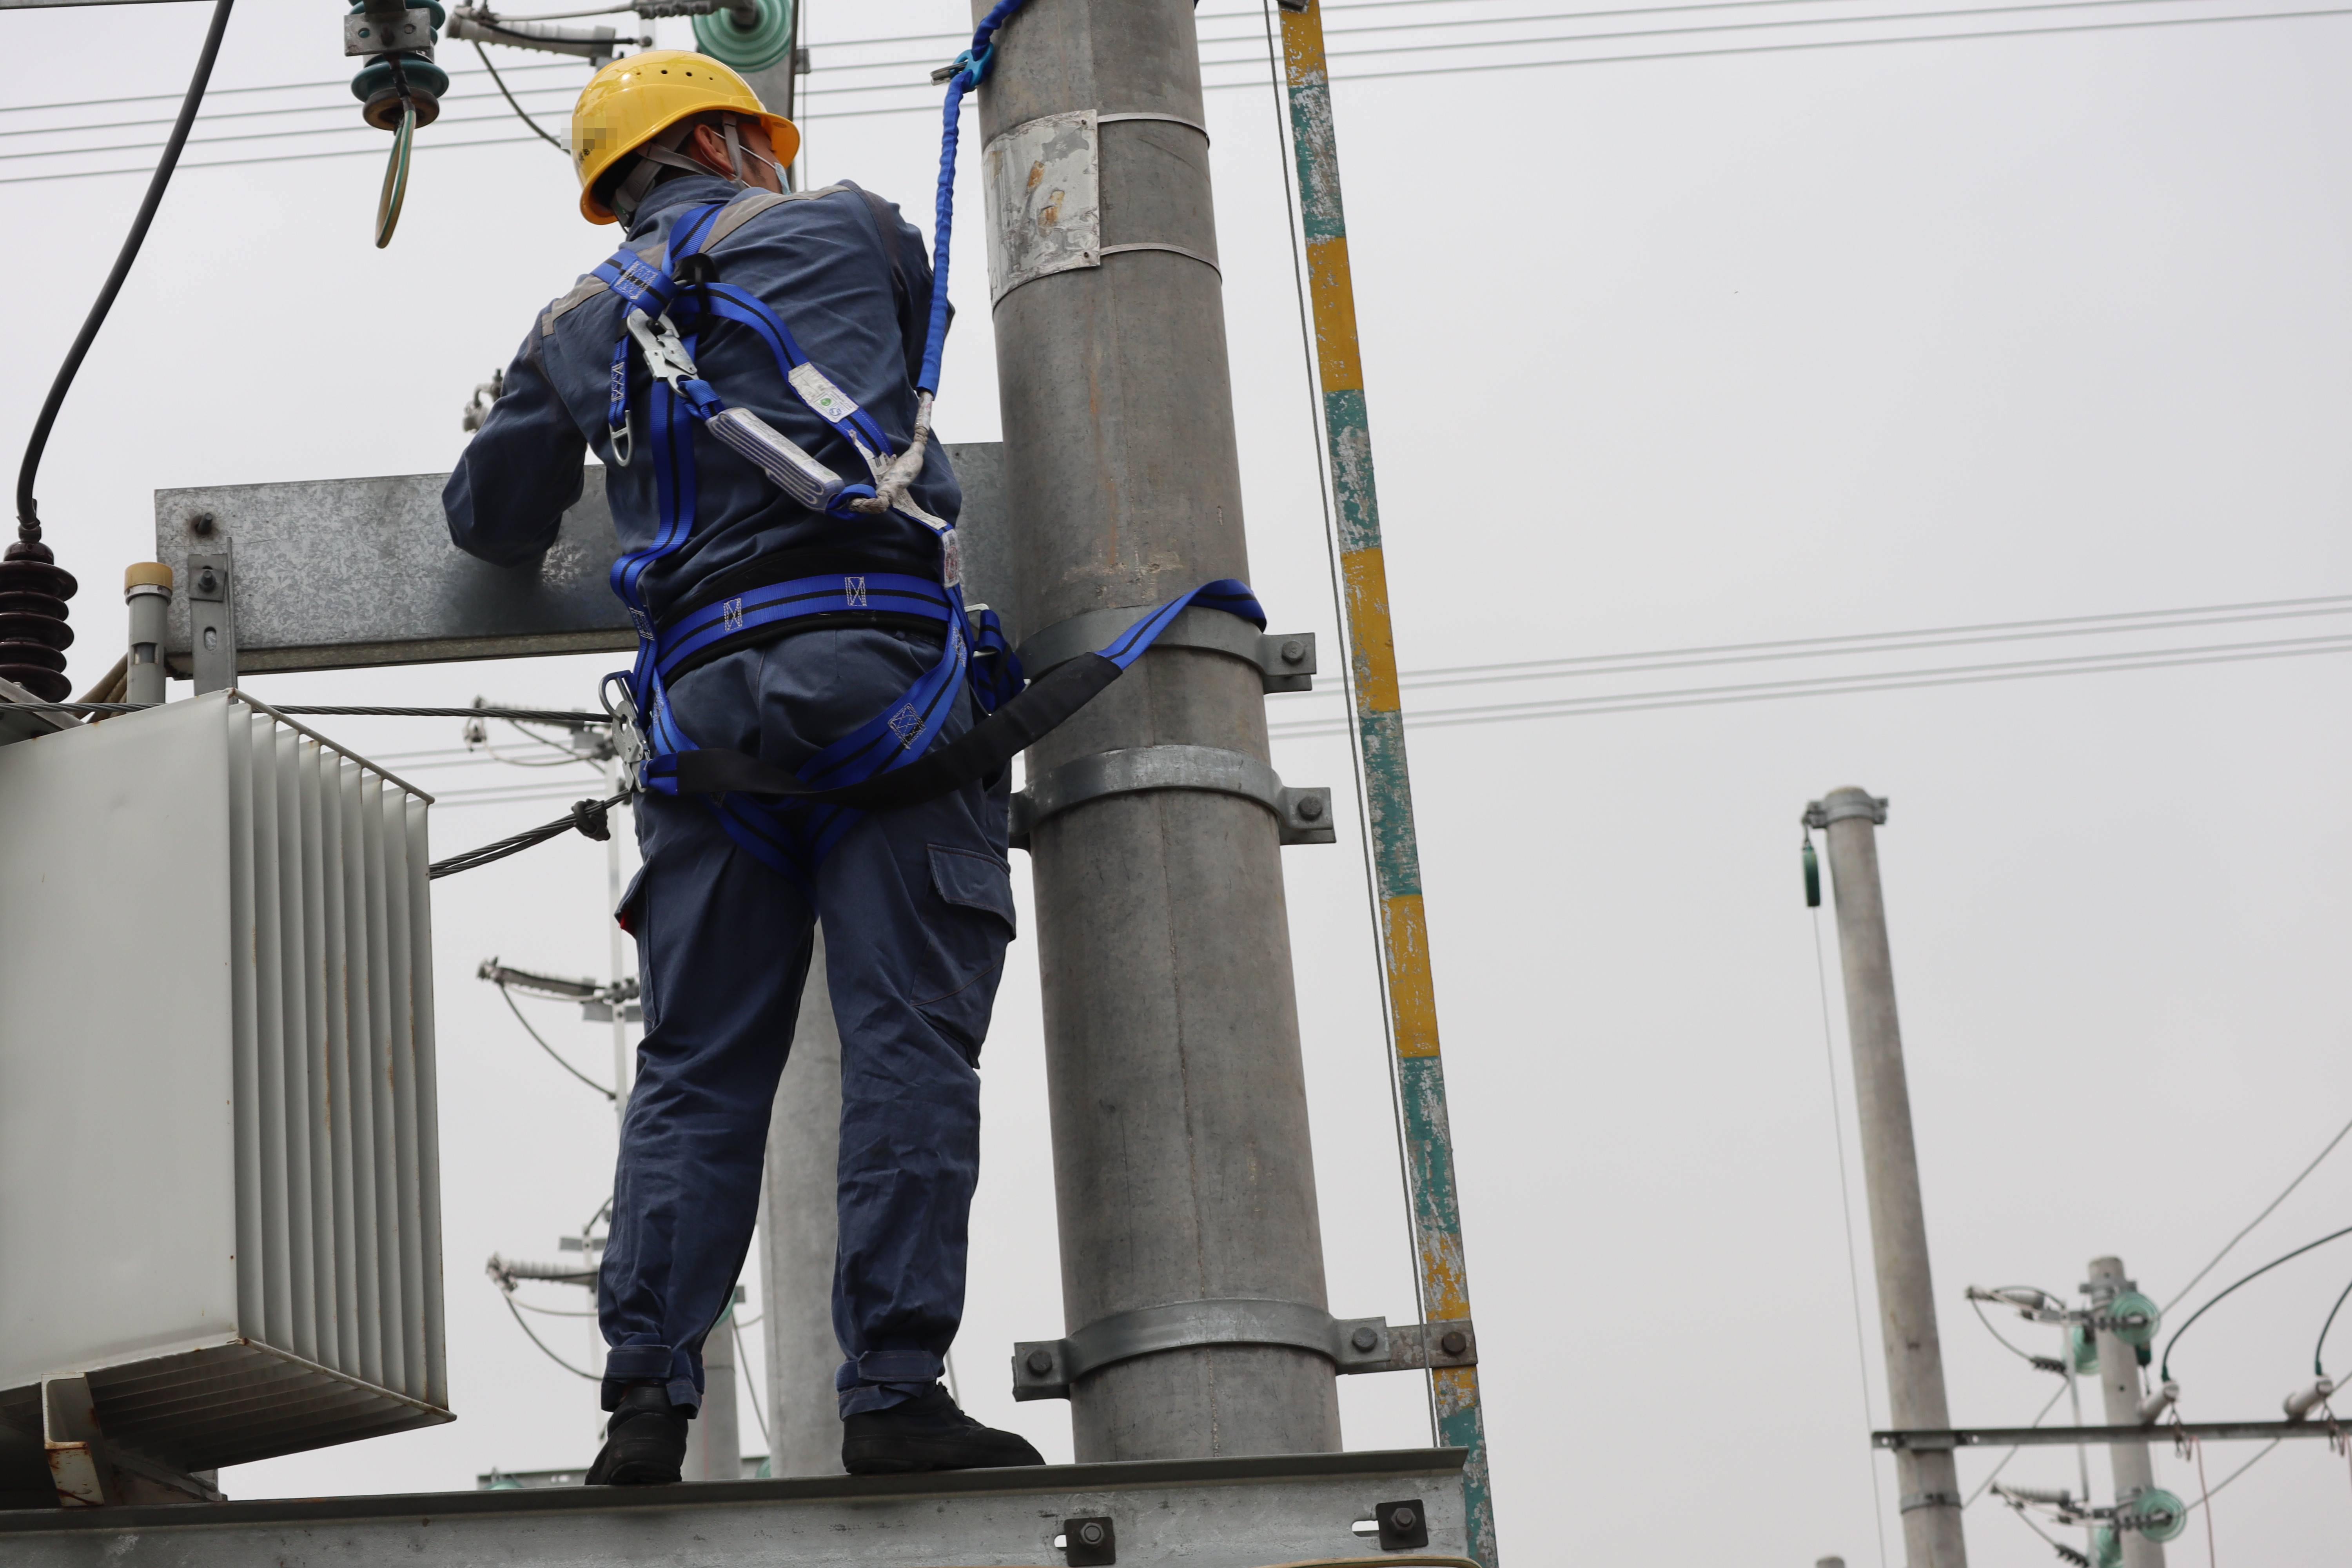downsuit: (602, 639, 990, 1363)
upsuit: (487, 231, 935, 598)
